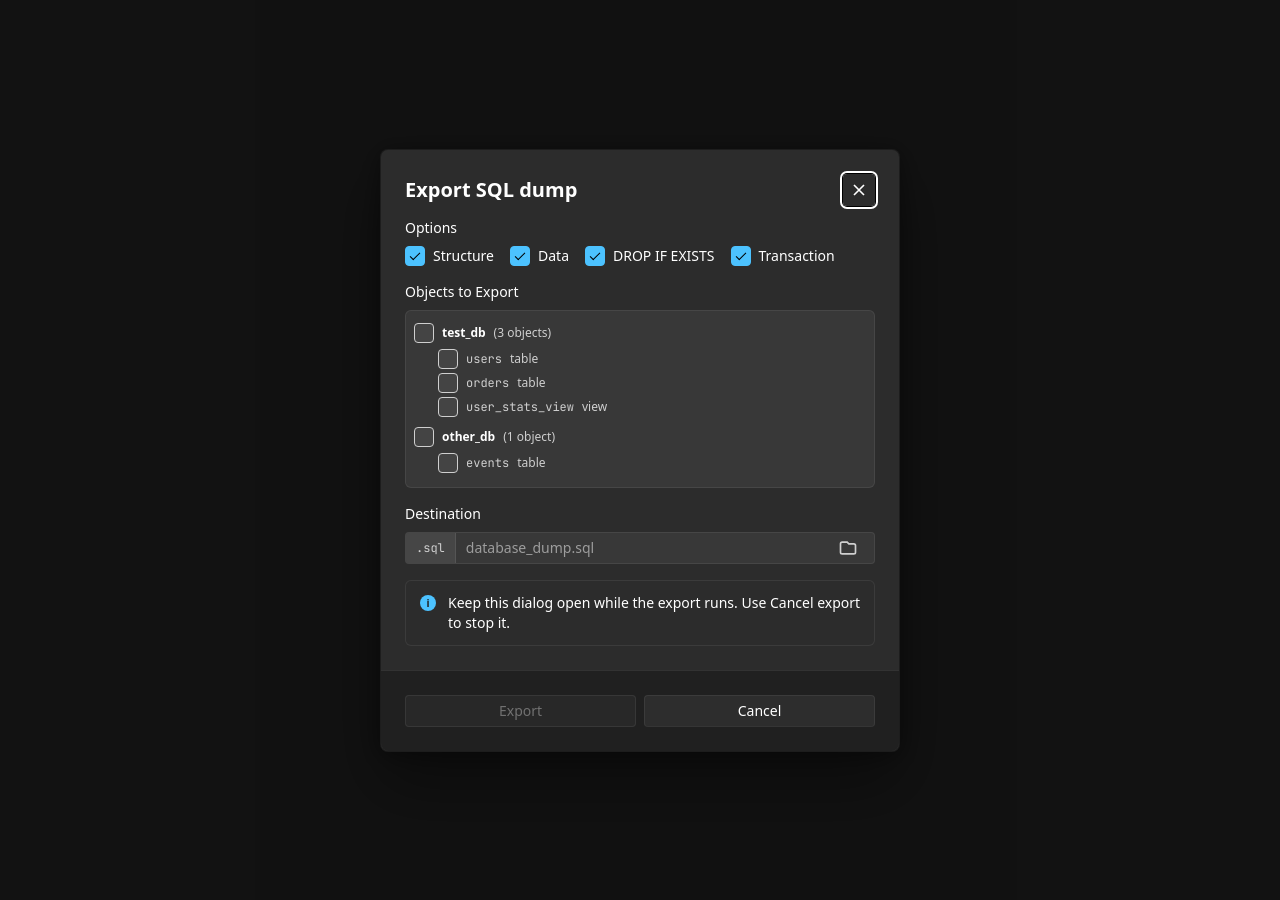
Test case: SqlDumpDialog › shows selected count in objects label
The image size is (1280, 900).
expect the element with test id "dump-object-tree" is shown: met, box [405, 310, 875, 488]
# Select one table
Click the checkbox with test id "dump-table-test_db-users" at (448,358), box [438, 348, 458, 368]
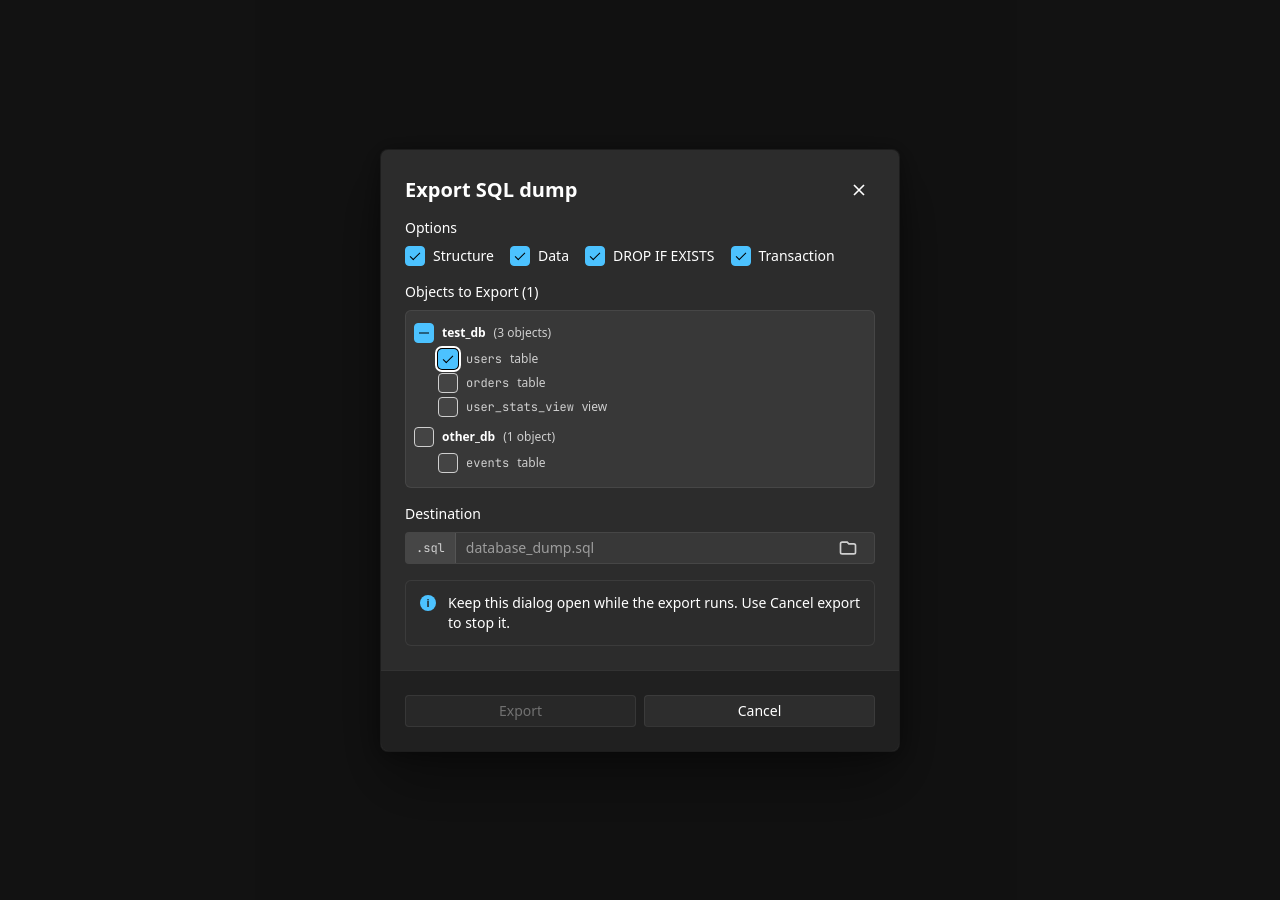
expect the text "Objects to Export (1)" is shown: met, box [405, 282, 538, 300]
